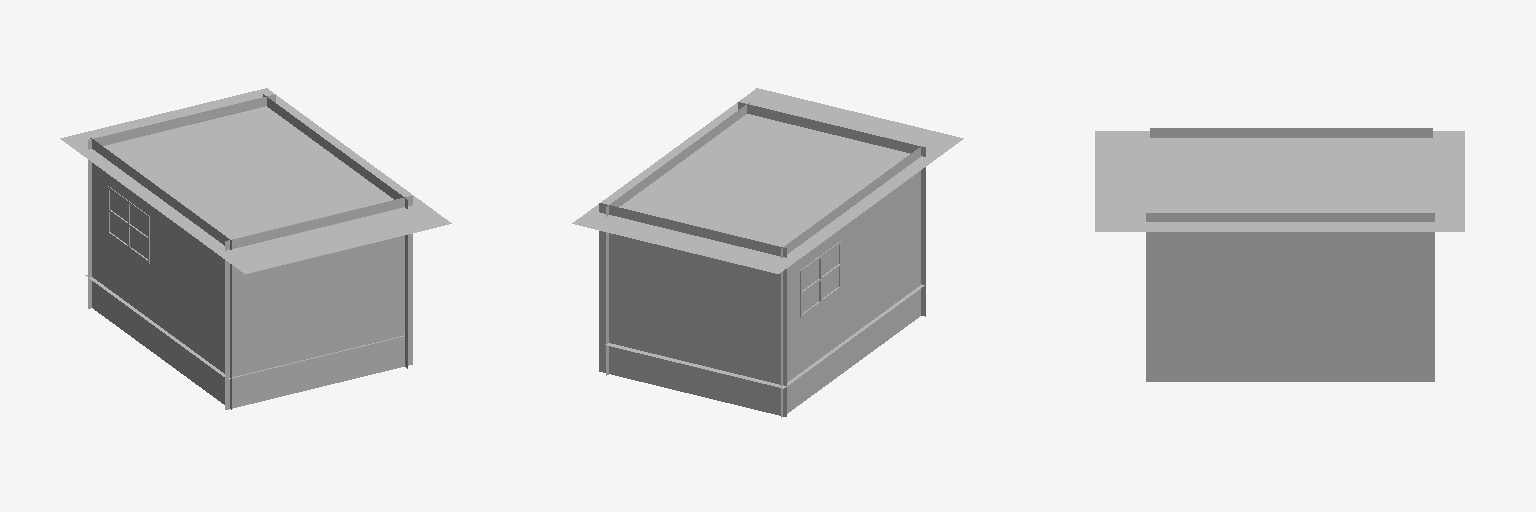
File: kitchenmap11.obj
The picture shows the model from 3 angles: view 1: azimuth 30°, elevation 25°; view 2: azimuth 150°, elevation 25°; view 3: azimuth 270°, elevation 25°; orthographic projection.
Parts seen in each view (by area): view 1: Roof, Back_Short_Wall, Left_Wall, Right_Wall, Back_Long_Wall, Window_Barrier, Window_Frame, Floor; view 2: Roof, Right_Wall, Left_Wall, Back_Short_Wall, Back_Long_Wall, Window_Barrier, Floor, Window_Frame; view 3: Back_Long_Wall, Roof, Left_Wall.
Boxes of the visible parts, box(x1,y1,x2,y2) form: Roof: box(60, 88, 451, 273); Back_Short_Wall: box(225, 196, 412, 409); Left_Wall: box(90, 138, 231, 409); Right_Wall: box(88, 94, 275, 308); Back_Long_Wall: box(263, 94, 407, 368); Window_Barrier: box(110, 190, 147, 258); Window_Frame: box(108, 186, 149, 263); Floor: box(85, 275, 404, 378); Roof: box(572, 88, 963, 273); Right_Wall: box(599, 203, 786, 416); Left_Wall: box(781, 146, 922, 417); Back_Short_Wall: box(738, 102, 925, 316); Back_Long_Wall: box(606, 102, 749, 375); Window_Barrier: box(802, 245, 838, 313); Floor: box(605, 284, 924, 388); Window_Frame: box(800, 241, 841, 317); Back_Long_Wall: box(1146, 213, 1434, 381); Roof: box(1095, 131, 1464, 231); Left_Wall: box(1150, 128, 1432, 137).
Size of the model in its own units: 83.42 by 65.1 by 129.